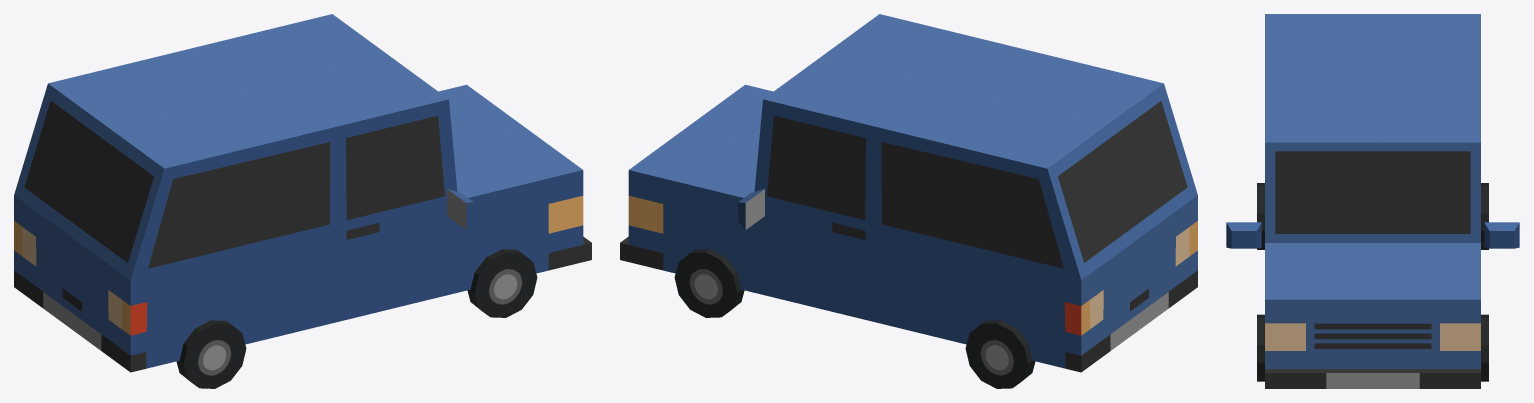
The model's file is car.gltf.
3 renders of one model, left to right at view 1: azimuth 30°, elevation 25°; view 2: azimuth 150°, elevation 25°; view 3: azimuth 270°, elevation 25°, orthographic. The views are drawn at different scales.
Parts seen in each view (by area): view 1: g_01; view 2: g_01; view 3: g_01.
Boxes of the visible parts, x1,y1,x2,y2 form: g_01: (14,14,591,388); g_01: (620,14,1197,388); g_01: (1226,14,1519,388).
Bounding box in the file's own units: 5.32 × 2.52 × 3.16.
1 material, 1 textured.
